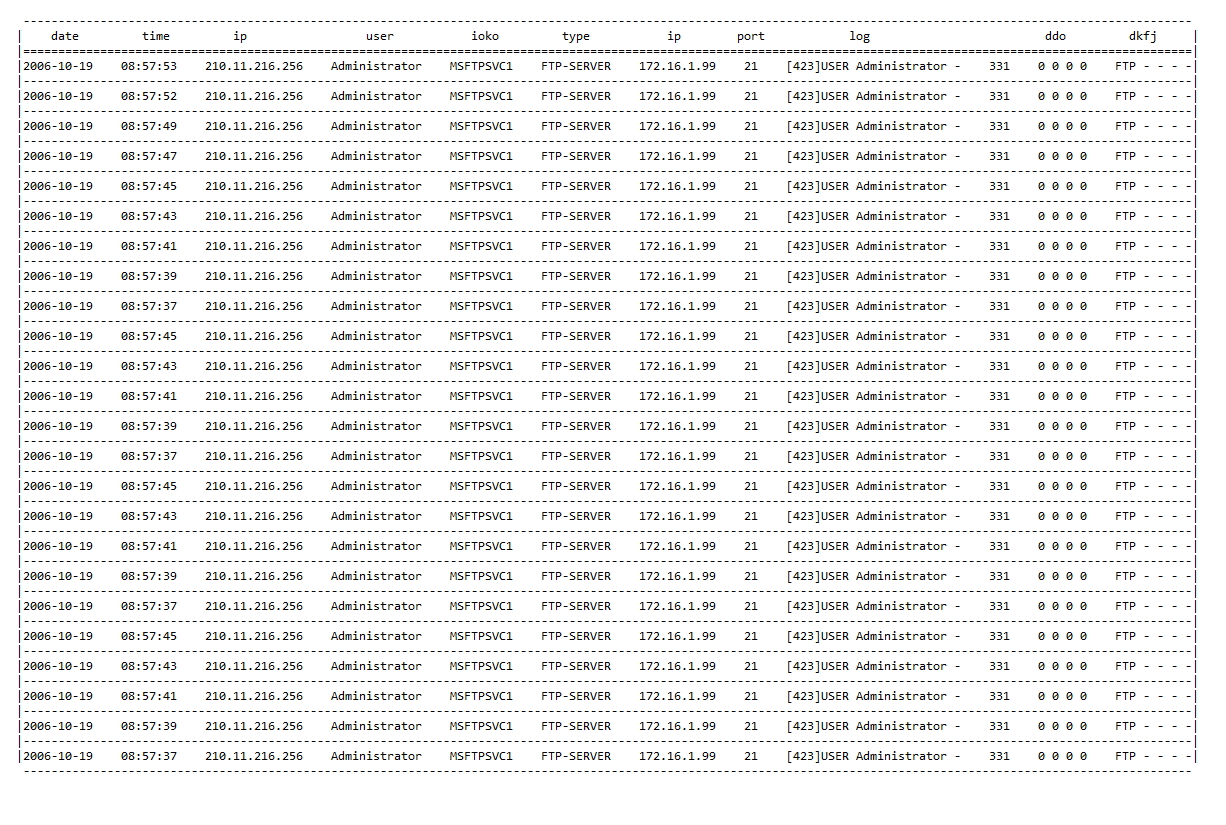table: (13, 13, 1205, 780)
